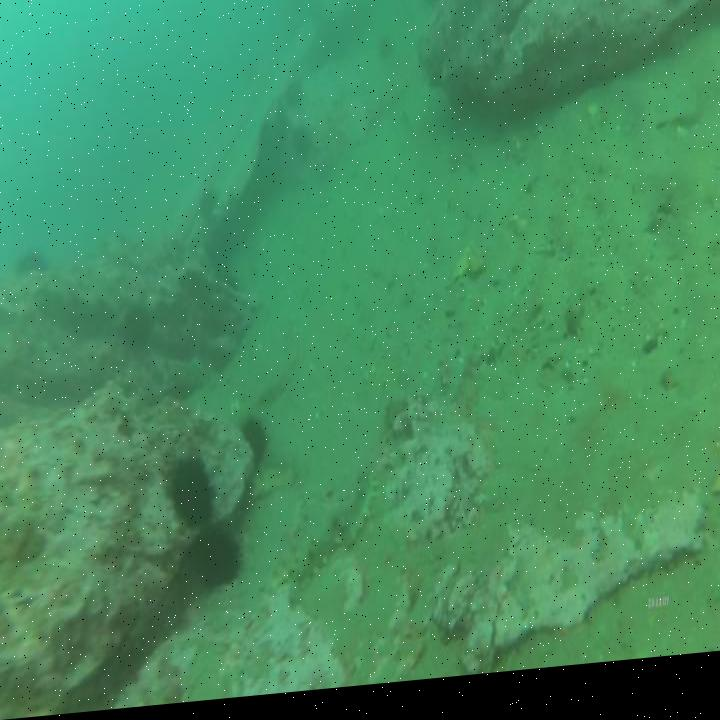echinus: (162, 446, 220, 540), (192, 516, 248, 600), (238, 411, 275, 467)
holothurian: (324, 467, 381, 565), (242, 462, 301, 502)
